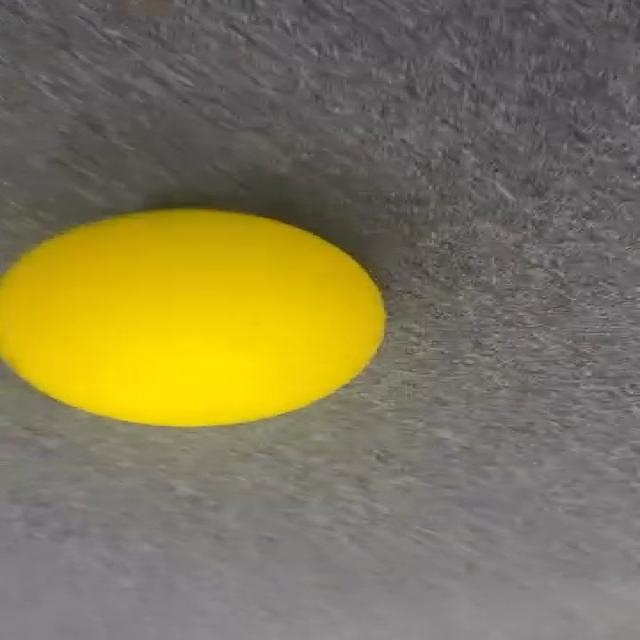Fuels: (0, 206, 389, 428)
